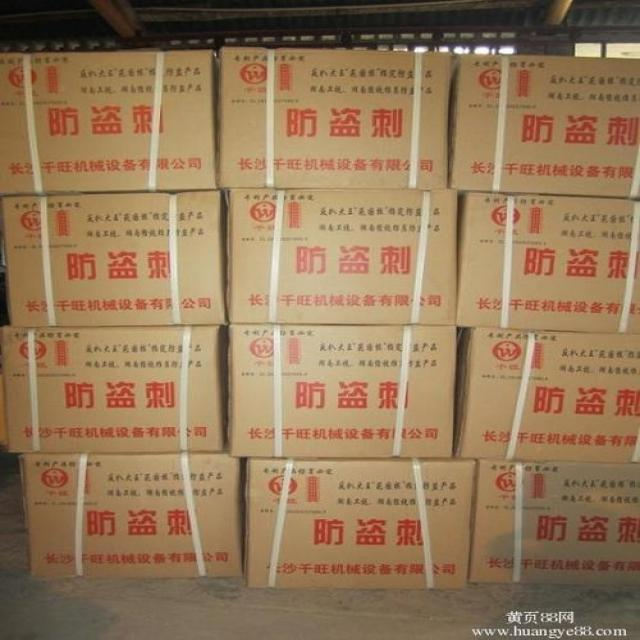box: (217, 49, 454, 188), (223, 324, 460, 459), (221, 190, 457, 325), (0, 51, 219, 194), (245, 458, 478, 586), (18, 454, 243, 577), (452, 55, 639, 199), (452, 326, 639, 464), (455, 193, 639, 333), (468, 462, 639, 583)
